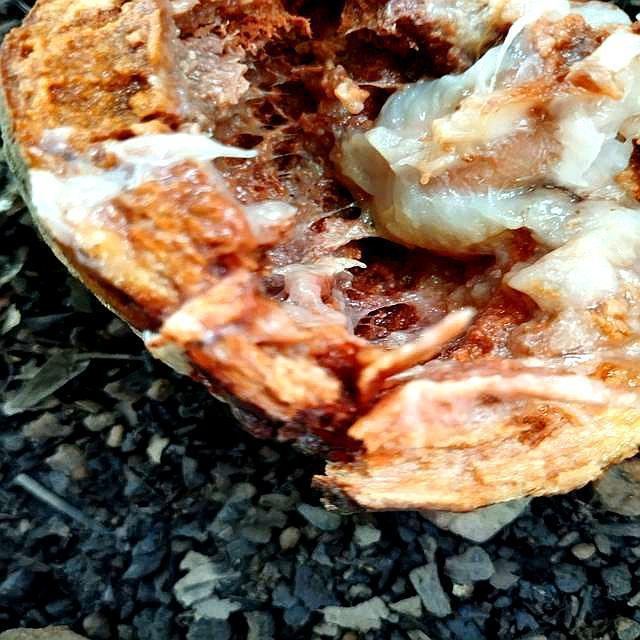Biodegradable: (1, 1, 640, 509)
